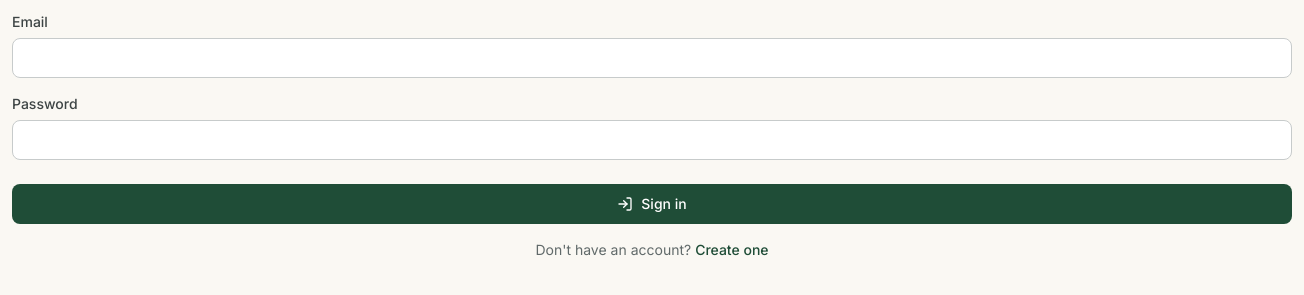
Scenario: LoginForm validation › shows an error for a password shorter than 8 characters
The width and height of the screenshot is (1304, 295).
Type "user@example.com" into the field labelled "Email" at x=652, y=58, box [12, 38, 1292, 78]
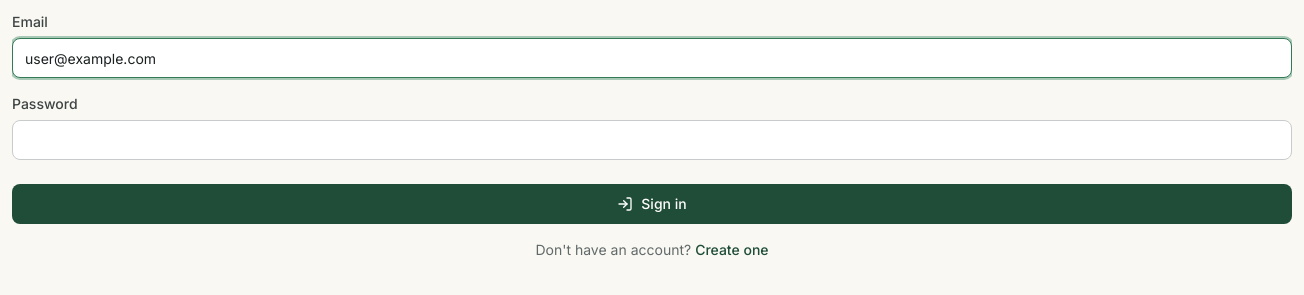
Type "short" into the password field labelled "Password" at x=652, y=140, box [12, 120, 1292, 160]
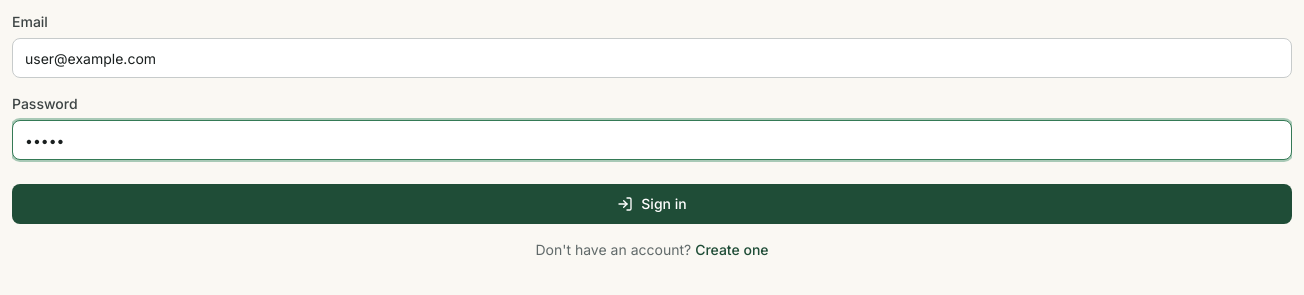
Click the button "Sign in" at x=652, y=204, box [12, 184, 1292, 224]
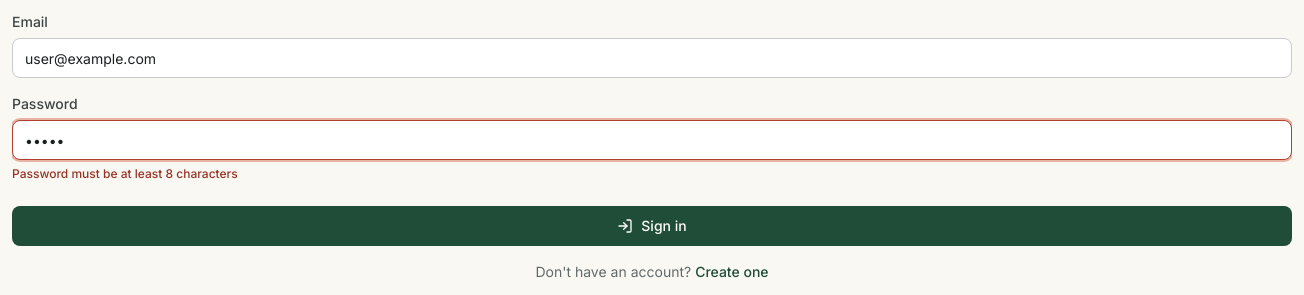
Check: the text "Password must be at least 8 characters" is shown, box [12, 166, 238, 181]
